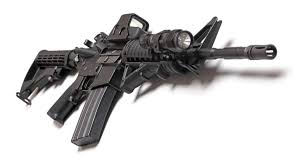gun: (17, 14, 277, 146)
